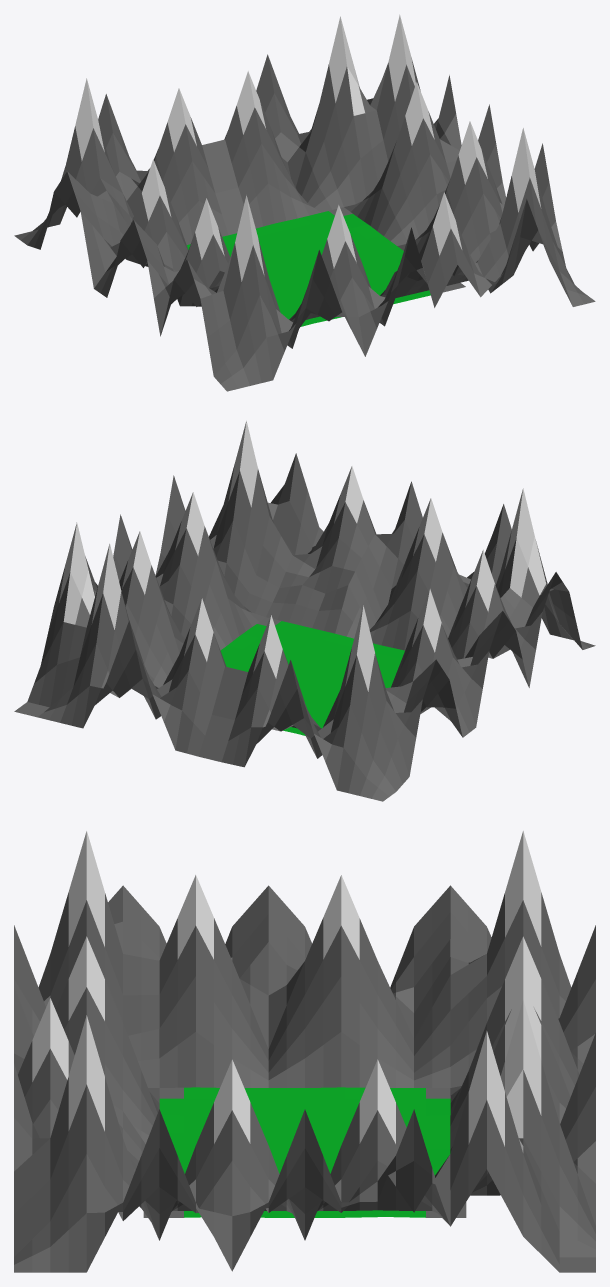
File: Landscape.fbx
The picture shows the model from 3 angles, top to bottom: view 1: azimuth 30°, elevation 25°; view 2: azimuth 150°, elevation 25°; view 3: azimuth 270°, elevation 25°; orthographic projection. The views are drawn at different scales.
Parts seen in each view (by area): view 1: Plane, Plane.001; view 2: Plane, Plane.001; view 3: Plane, Plane.001.
Part boxes in pixels (x1,y1,x2,y2): Plane: (14,14,595,391); Plane.001: (187,207,465,326); Plane: (14,420,595,801); Plane.001: (220,617,404,735); Plane: (14,831,595,1272); Plane.001: (143,1087,466,1217).
Size of the model in its own units: 11104 by 4782 by 11104.
